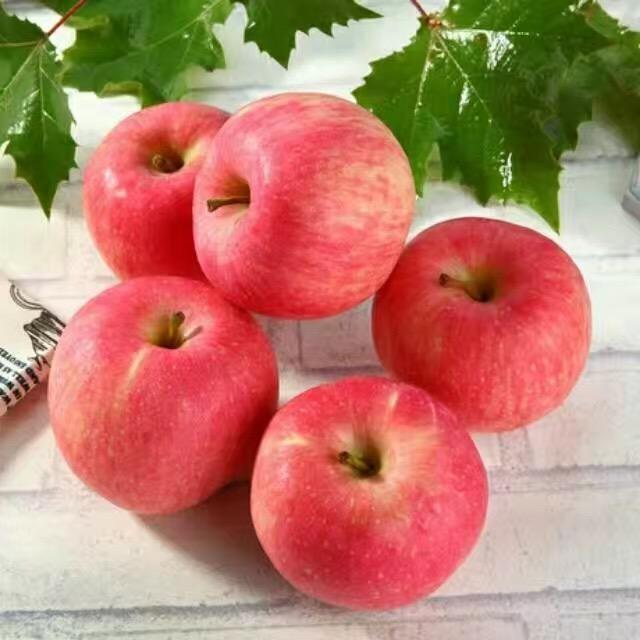apple: (248, 376, 491, 608), (48, 275, 281, 514), (190, 90, 421, 320), (369, 215, 592, 435), (82, 99, 231, 287)
